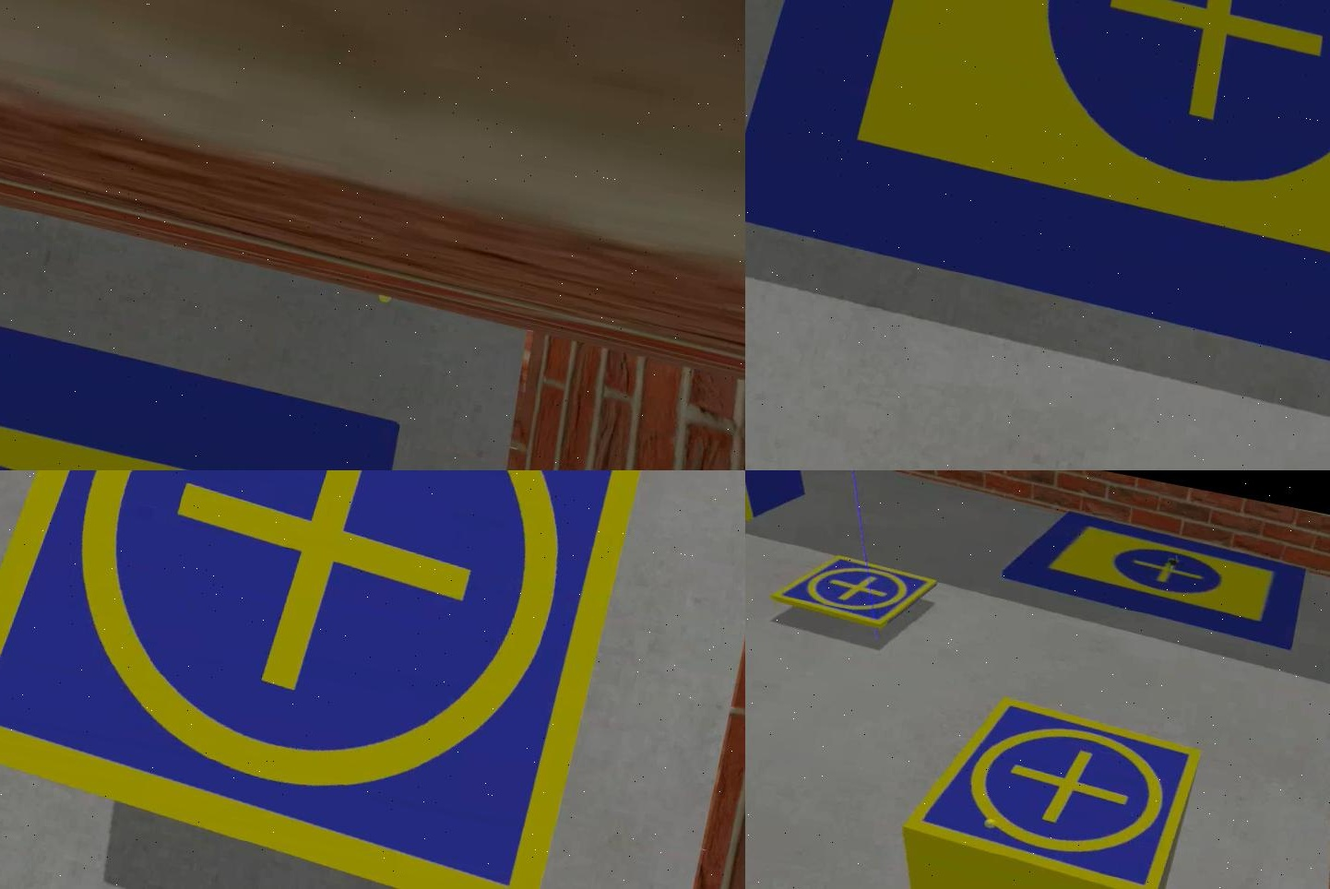large_base: (744, 1, 1328, 417), (0, 243, 410, 471), (991, 499, 1310, 646)
small_base: (0, 471, 678, 889), (897, 683, 1205, 889), (771, 543, 935, 638)
